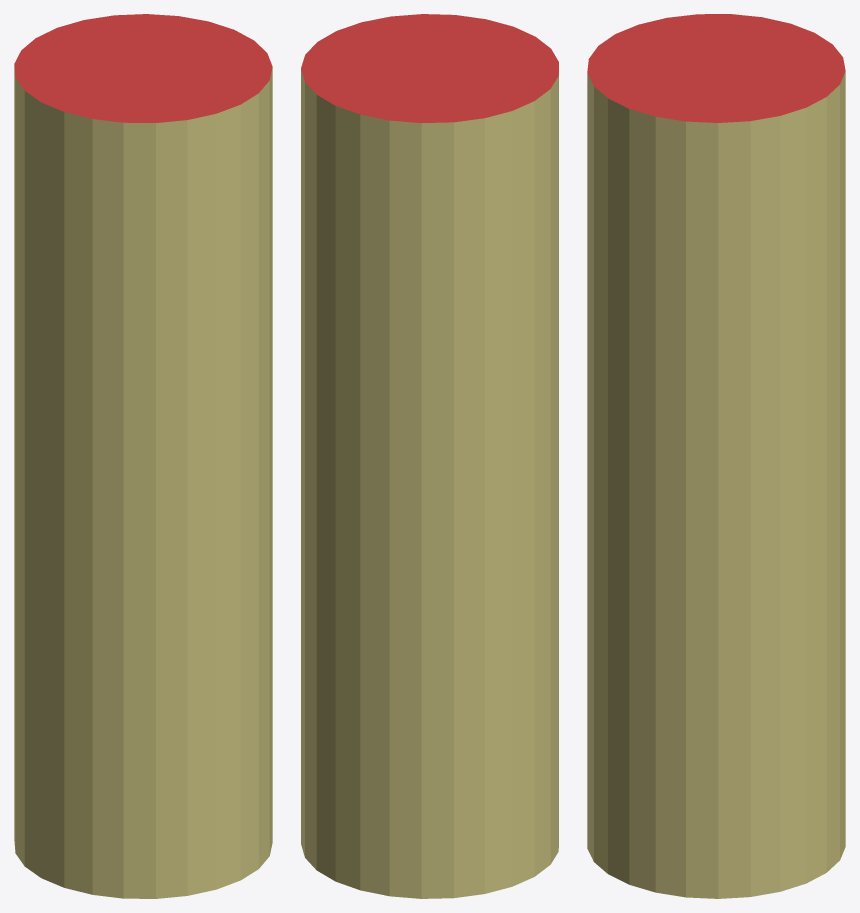
3 renders of one model, left to right at view 1: azimuth 30°, elevation 25°; view 2: azimuth 150°, elevation 25°; view 3: azimuth 270°, elevation 25°, orthographic.
Size of the model in its own units: 3.14 by 3.15 by 10.43.
